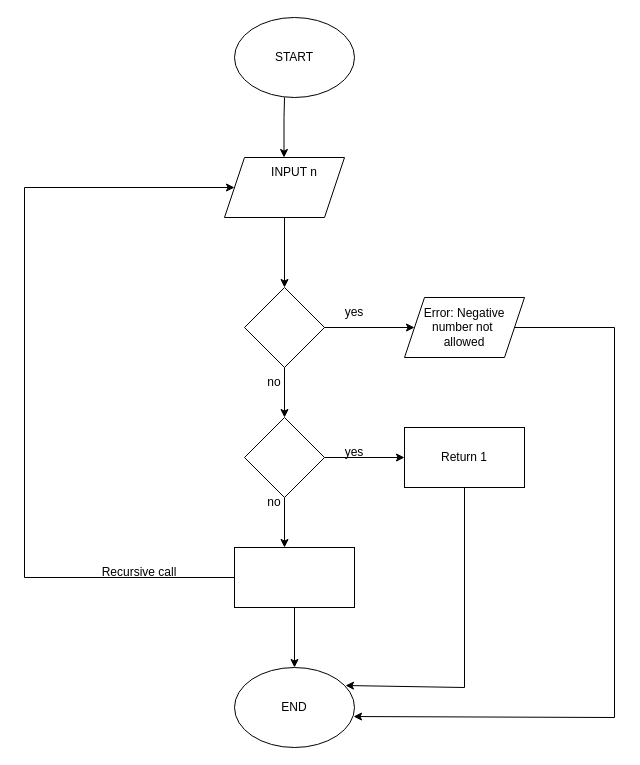
Some shapes in this 640 by 765 pixel diagram are drawn without their labels. The shapes that lost their labels are listed below. From the top down, each one's centre as x and y in pixels, then its label:
At [284,327]: "n < 0?".
At [284,457]: "n == 0?".
At [294,577]: "Return n * factorial(n-1)".
